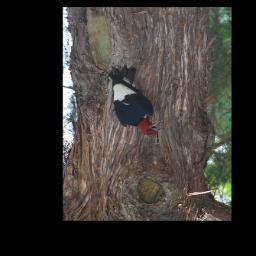Woodpecker: (104, 65, 165, 139)
